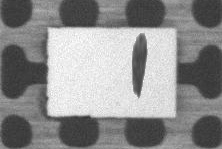DIE_INK: (129, 33, 147, 97)
